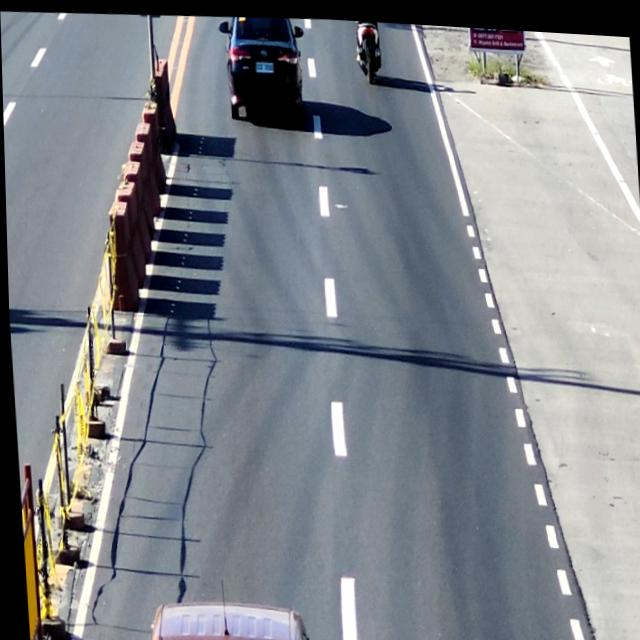Car: (126, 586, 321, 640), (221, 11, 303, 125)
License-Plate: (253, 54, 277, 74)
Motorcycle: (350, 16, 385, 83)
